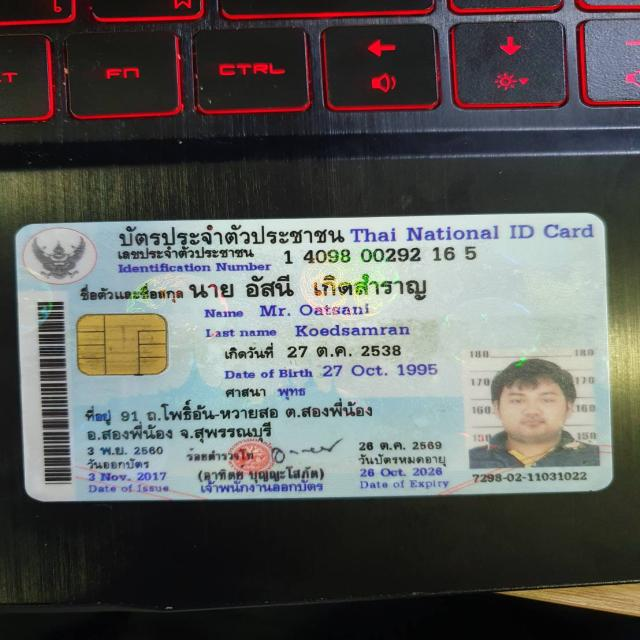Address_th: (83, 398, 373, 444)
Date_of_Birth: (316, 360, 445, 382)
Date_of_Expiry: (355, 464, 448, 481)
Date_of_Issue: (79, 468, 170, 484)
First_Name: (253, 299, 378, 319)
ID_Number: (278, 244, 486, 268)
Image: (461, 350, 603, 471)
Last_Name: (286, 322, 419, 341)
Thai_Name: (186, 272, 434, 304)
